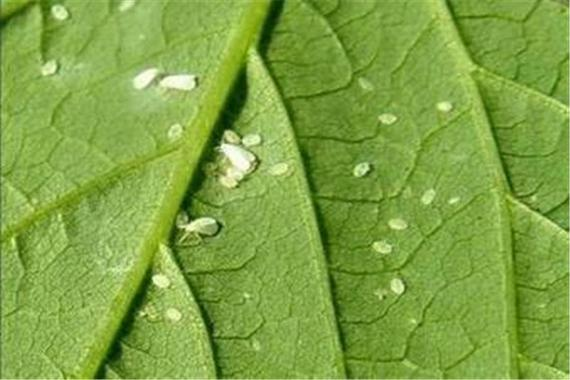Delphacidae: (213, 137, 257, 173), (177, 215, 218, 243), (159, 73, 198, 91), (131, 67, 160, 90)
